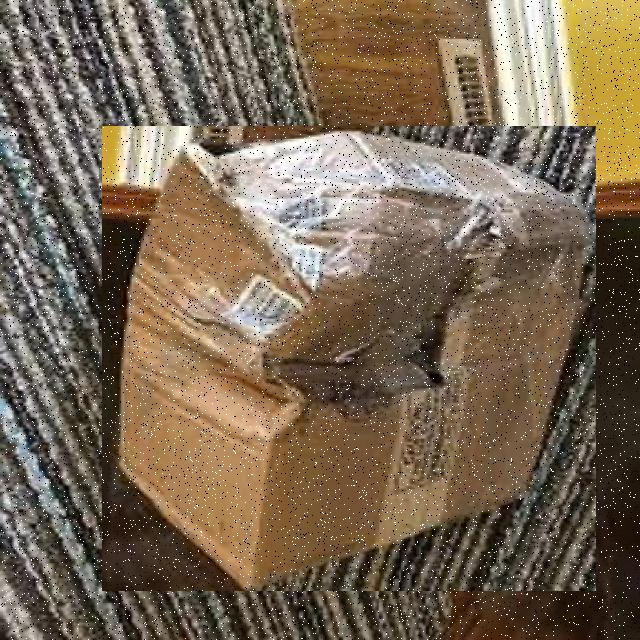defect: (102, 126, 596, 591)
